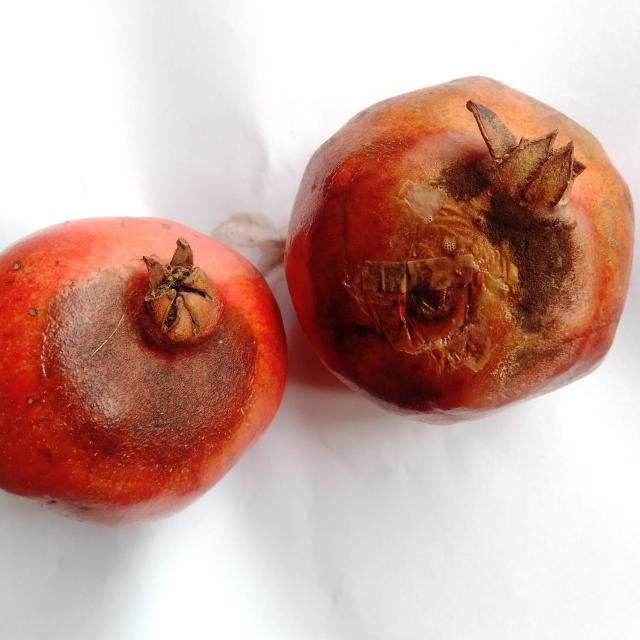Rotten: (285, 70, 640, 428), (0, 208, 289, 524)
